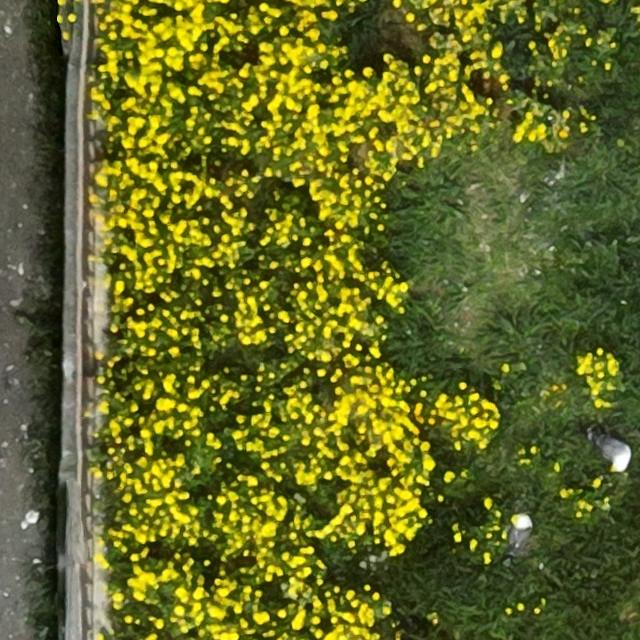umineko: (596, 435, 631, 468), (510, 516, 530, 550)
